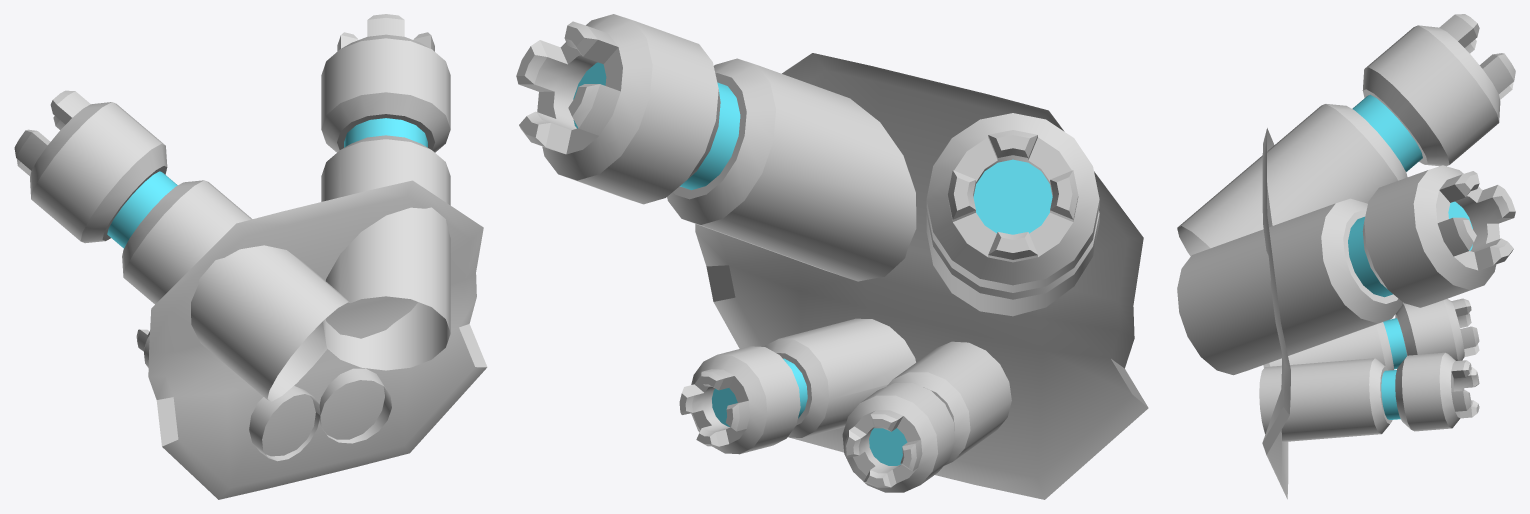
The model's file is Mod_BackPlate_Queen2.FBX.
3 renders of one model, left to right at view 1: azimuth 30°, elevation 25°; view 2: azimuth 150°, elevation 25°; view 3: azimuth 270°, elevation 25°, orthographic. The views are drawn at different scales.
Visible parts, largest first — view 1: Mod_BackPlate_Queen2; view 2: Mod_BackPlate_Queen2; view 3: Mod_BackPlate_Queen2.
Boxes of the visible parts, x1=… form: Mod_BackPlate_Queen2: x1=14, y1=14, x2=487, y2=499; Mod_BackPlate_Queen2: x1=516, y1=14, x2=1148, y2=499; Mod_BackPlate_Queen2: x1=1177, y1=14, x2=1515, y2=499.
Size of the model in its own units: 407 by 335 by 287.
